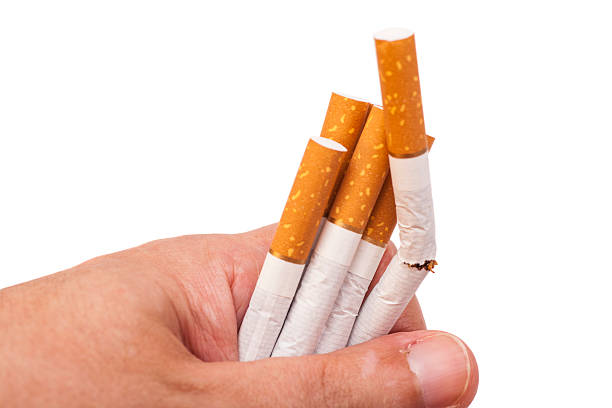cigarette: (272, 105, 389, 360), (349, 27, 437, 348), (236, 134, 349, 363), (312, 171, 397, 353), (318, 87, 371, 146)
